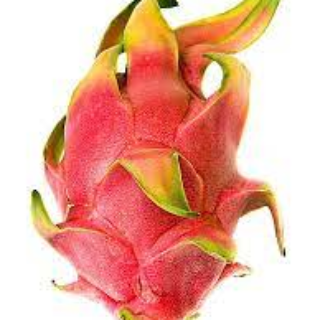thanh_long: (50, 13, 248, 313)
